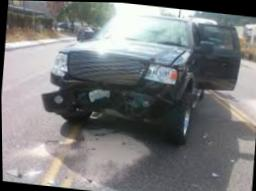Bumper: (39, 78, 174, 121)
